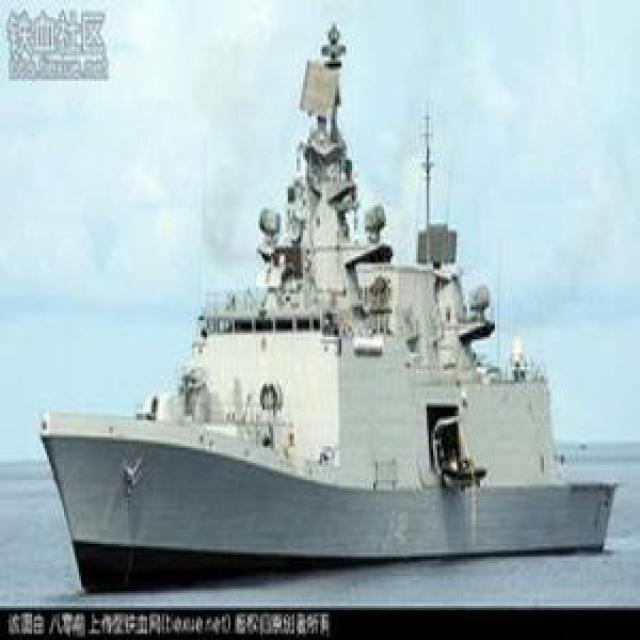navalvessels: (30, 19, 615, 589)
